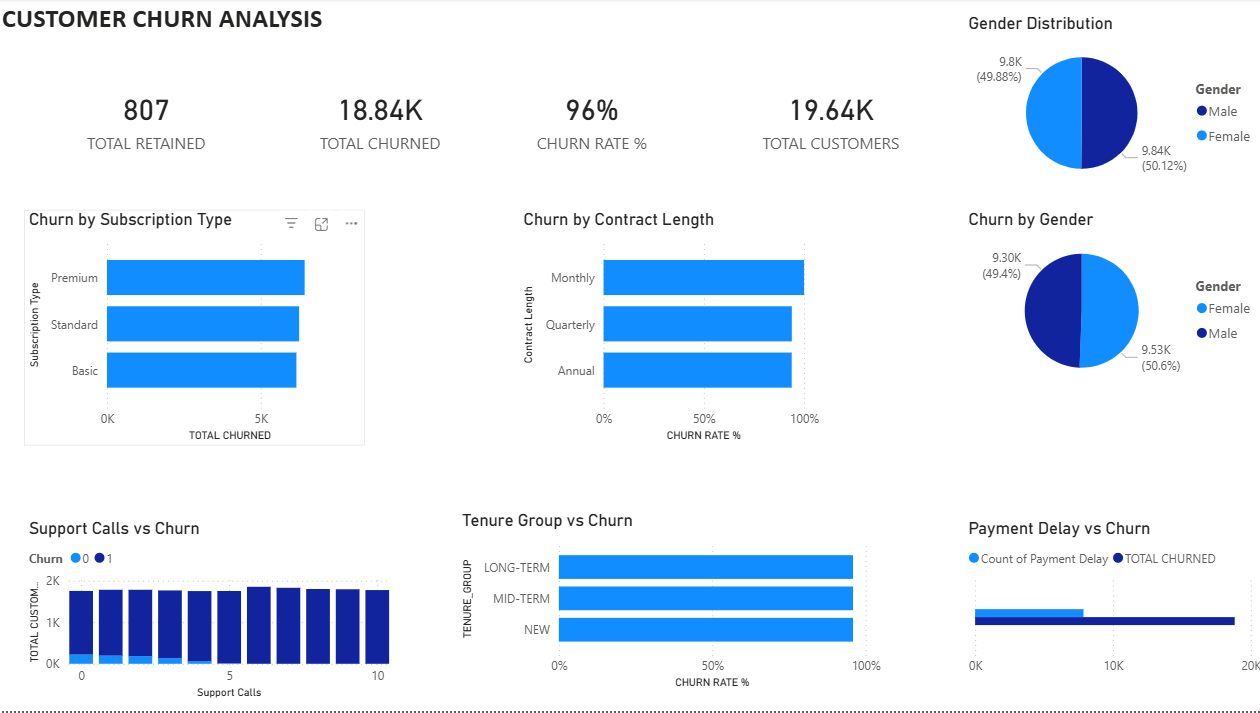

Layout of this report page (visuals, bound fields, positions):
{"tool":"powerbi","page":{"name":"Dashboard summary","canvas":[1280,720],"ordinal":0},"visuals":[{"type":"card","fields":{"Values":["fintechproject churn dataset.TOTAL CHURNED"]},"box":[257.1,46.8,259.3,150.3],"z":0},{"type":"card","fields":{"Values":["fintechproject churn dataset.TOTAL RETAINED"]},"box":[10.9,46.8,280,150.3],"z":1000},{"type":"clusteredBarChart","title":"Churn by Subscription Type","fields":{"Category":["fintechproject churn dataset.Subscription Type"],"Y":["fintechproject churn dataset.TOTAL CHURNED"]},"box":[27.2,213.5,344.2,238.6],"z":2000},{"type":"clusteredBarChart","title":"Churn by Contract Length","fields":{"Y":["fintechproject churn dataset.CHURN RATE %"],"Category":["fintechproject churn dataset.Contract Length"]},"box":[526.2,213.5,308.3,238.6],"z":3000},{"type":"pieChart","title":"Gender Distribution","fields":{"Y":["fintechproject churn dataset.TOTAL CUSTOMERS"],"Category":["fintechproject churn dataset.Gender"]},"box":[975,15.3,305,181.9],"z":4000},{"type":"card","fields":{"Values":["fintechproject churn dataset.CHURN RATE %"]},"box":[455.3,46.8,289.8,150.3],"z":5000},{"type":"card","fields":{"Values":["fintechproject churn dataset.TOTAL CUSTOMERS"]},"box":[753.8,46.8,175.4,150.3],"z":6000},{"type":"columnChart","title":"Support Calls vs Churn","fields":{"Category":["fintechproject churn dataset.Support Calls"],"Y":["fintechproject churn dataset.TOTAL CUSTOMERS"],"Series":["fintechproject churn dataset.Churn"]},"box":[27.2,525.1,373.6,185.2],"z":7000},{"type":"pieChart","title":"Churn by Gender","fields":{"Category":["fintechproject churn dataset.Gender"],"Y":["fintechproject churn dataset.TOTAL CHURNED"]},"box":[975,213.5,305,185.2],"z":8000},{"type":"clusteredBarChart","title":" Tenure Group vs Churn","fields":{"Category":["fintechproject v_churn_subscription_totals.TENURE_GROUP"],"Y":["fintechproject churn dataset.CHURN RATE %"]},"box":[464.1,516.4,432.5,185.2],"z":9000},{"type":"clusteredBarChart","title":"Payment Delay vs Churn","fields":{"Y":["CountNonNull(fintechproject v_high_risk_customers.Payment Delay)","fintechproject churn dataset.TOTAL CHURNED"]},"box":[975,525.1,305,166.7],"z":10000},{"type":"textbox","box":[0,0,408.5,46.8],"z":10001}]}

Visuals, with their boxes in screenshot pixels (x1, y1, x2, y2), scaled from the page's 1280x720 canvas onto the 1260x713 screenshot:
card - fintechproject churn dataset.TOTAL CHURNED: region(253, 46, 508, 195)
card - fintechproject churn dataset.TOTAL RETAINED: region(11, 46, 286, 195)
"Churn by Subscription Type" clusteredBarChart: region(27, 211, 366, 448)
"Churn by Contract Length" clusteredBarChart: region(518, 211, 821, 448)
"Gender Distribution" pieChart: region(960, 15, 1259, 195)
card - fintechproject churn dataset.CHURN RATE %: region(448, 46, 733, 195)
card - fintechproject churn dataset.TOTAL CUSTOMERS: region(742, 46, 915, 195)
"Support Calls vs Churn" columnChart: region(27, 520, 395, 703)
"Churn by Gender" pieChart: region(960, 211, 1259, 395)
" Tenure Group vs Churn" clusteredBarChart: region(457, 511, 883, 695)
"Payment Delay vs Churn" clusteredBarChart: region(960, 520, 1259, 685)
textbox: region(0, 0, 402, 46)
